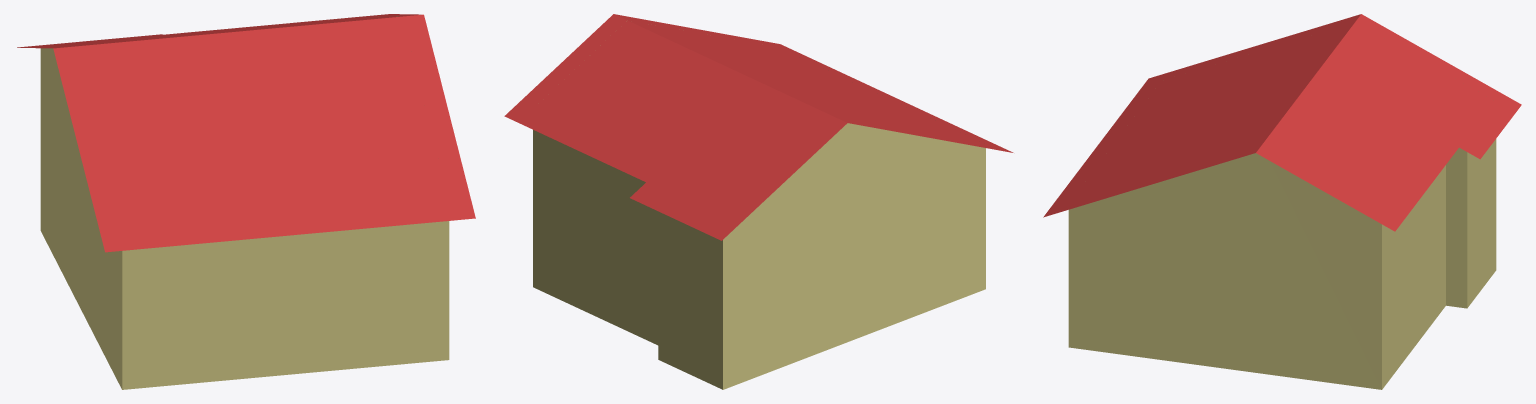
3 renders of one model, left to right at view 1: azimuth 30°, elevation 25°; view 2: azimuth 150°, elevation 25°; view 3: azimuth 270°, elevation 25°, orthographic. The views are drawn at different scales.
Bounding box in the file's own units: 16.37 × 17.74 × 9.35.
